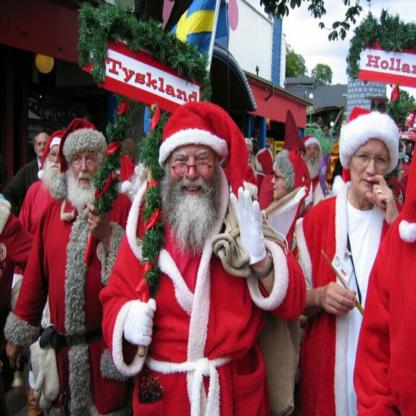face: (170, 146, 216, 213), (350, 141, 390, 199), (73, 149, 102, 194), (272, 168, 291, 200), (51, 146, 68, 179), (306, 143, 321, 168), (36, 135, 50, 157), (294, 149, 306, 172), (243, 146, 253, 169)
